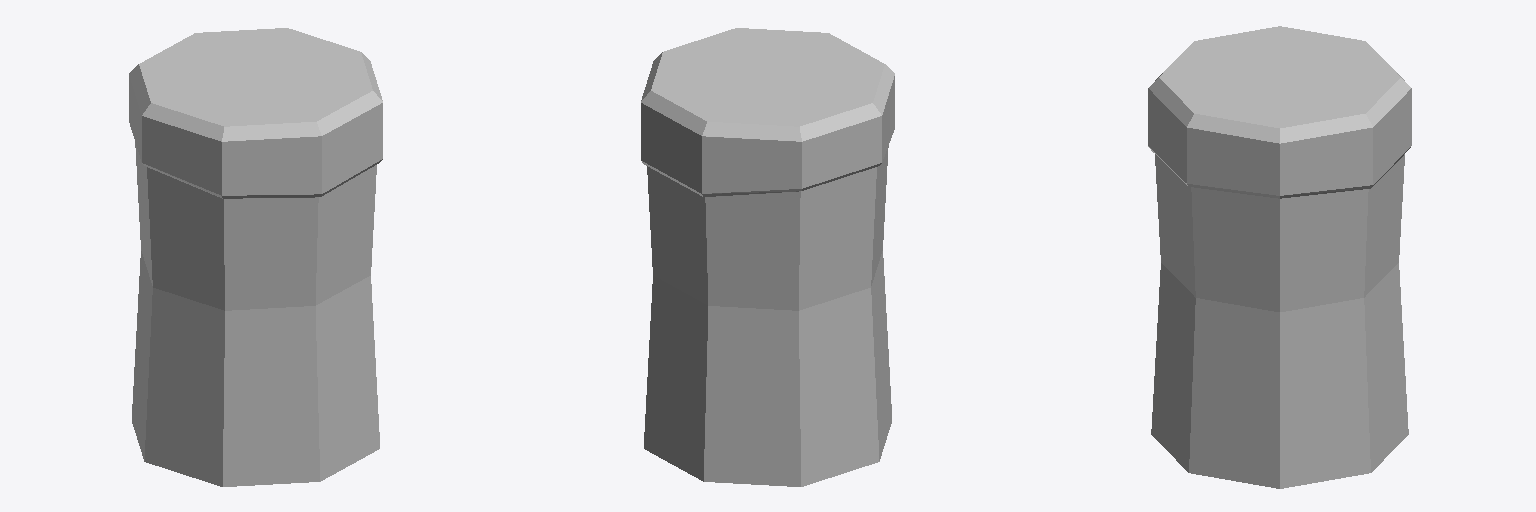
Rendered from rock3.obj.
3 views of the same model, side by side, from view 1: azimuth 30°, elevation 25°; view 2: azimuth 150°, elevation 25°; view 3: azimuth 270°, elevation 25° (orthographic).
Parts seen in each view (by area): view 1: Circle, Circle.003; view 2: Circle, Circle.003; view 3: Circle, Circle.003.
Part boxes in pixels (left/top/right/bottom): Circle: left=132, top=143, right=379, bottom=486; Circle.003: left=129, top=28, right=382, bottom=198; Circle: left=644, top=146, right=891, bottom=486; Circle.003: left=641, top=28, right=894, bottom=196; Circle: left=1151, top=154, right=1408, bottom=488; Circle.003: left=1148, top=26, right=1411, bottom=198.
Bounding box in the file's own units: 0.1218 × 0.1821 × 0.1218.